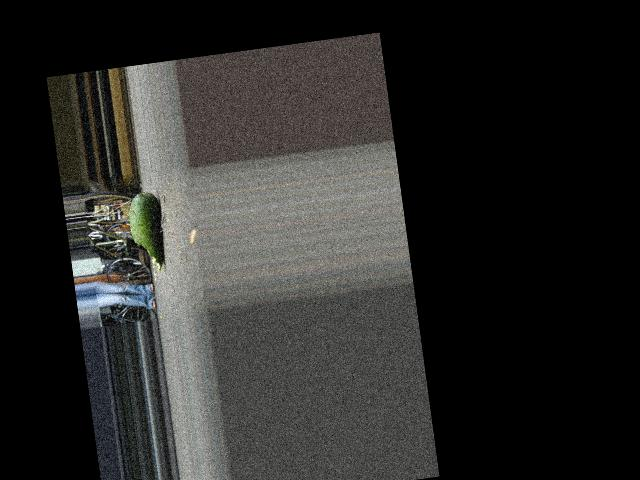cucumber: (126, 190, 167, 274)
